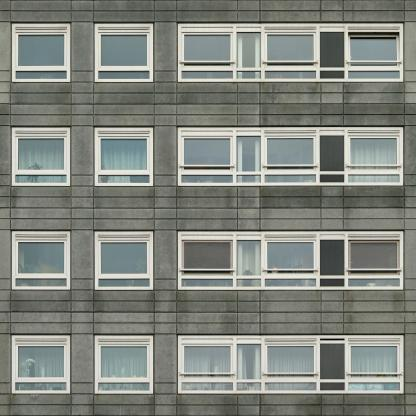Building Outline: (0, 0, 415, 416)
Facade: (0, 0, 415, 416)
Floor: (1, 114, 415, 208), (1, 11, 415, 104), (1, 219, 415, 312), (1, 323, 415, 415)
Floor Slab: (1, 1, 415, 12), (1, 312, 415, 323), (1, 208, 415, 219), (1, 104, 415, 115)
Window: (178, 336, 403, 395), (179, 23, 404, 82), (179, 127, 404, 186), (178, 231, 403, 290), (12, 336, 70, 395), (95, 336, 153, 395), (12, 23, 70, 82), (95, 23, 153, 82), (12, 127, 70, 186), (95, 127, 153, 186), (12, 231, 70, 290), (95, 231, 153, 290)
